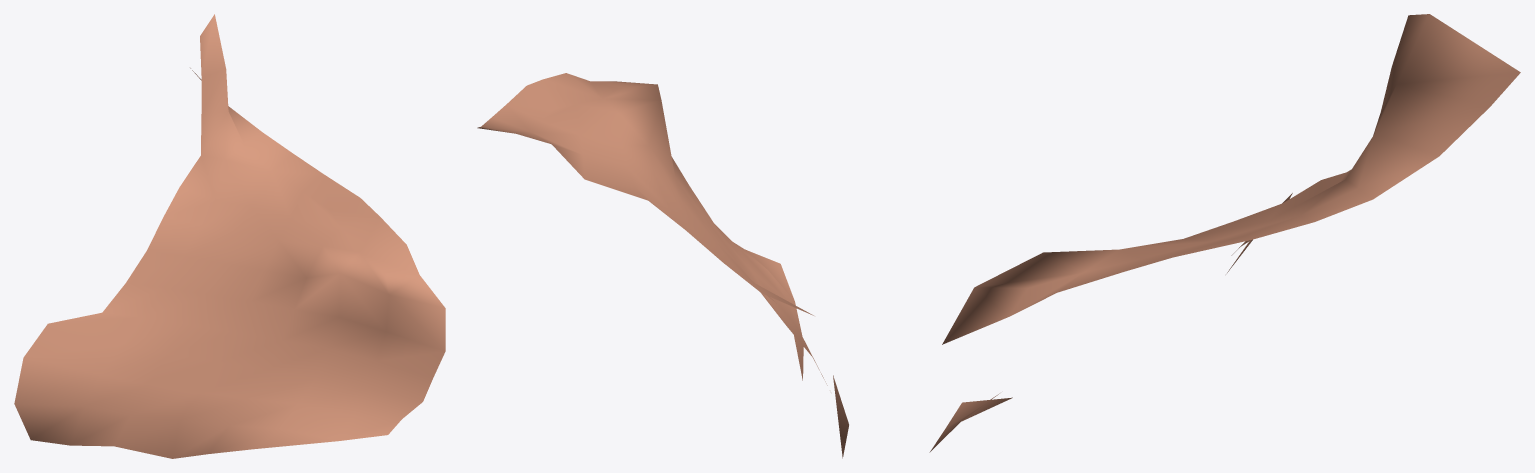
File: lesser-omentum.glb
3 views of the same model, side by side, from view 1: azimuth 30°, elevation 25°; view 2: azimuth 150°, elevation 25°; view 3: azimuth 270°, elevation 25° (orthographic). The views are drawn at different scales.
Visible parts, largest first — view 1: Lesser omentum; view 2: Lesser omentum; view 3: Lesser omentum.
Part boxes in pixels (x1,y1,x2,y2): Lesser omentum: [14, 14, 445, 458]; Lesser omentum: [477, 73, 848, 458]; Lesser omentum: [929, 14, 1520, 452].
Size of the model in its own units: 0.0614 by 0.0598 by 0.0652.
